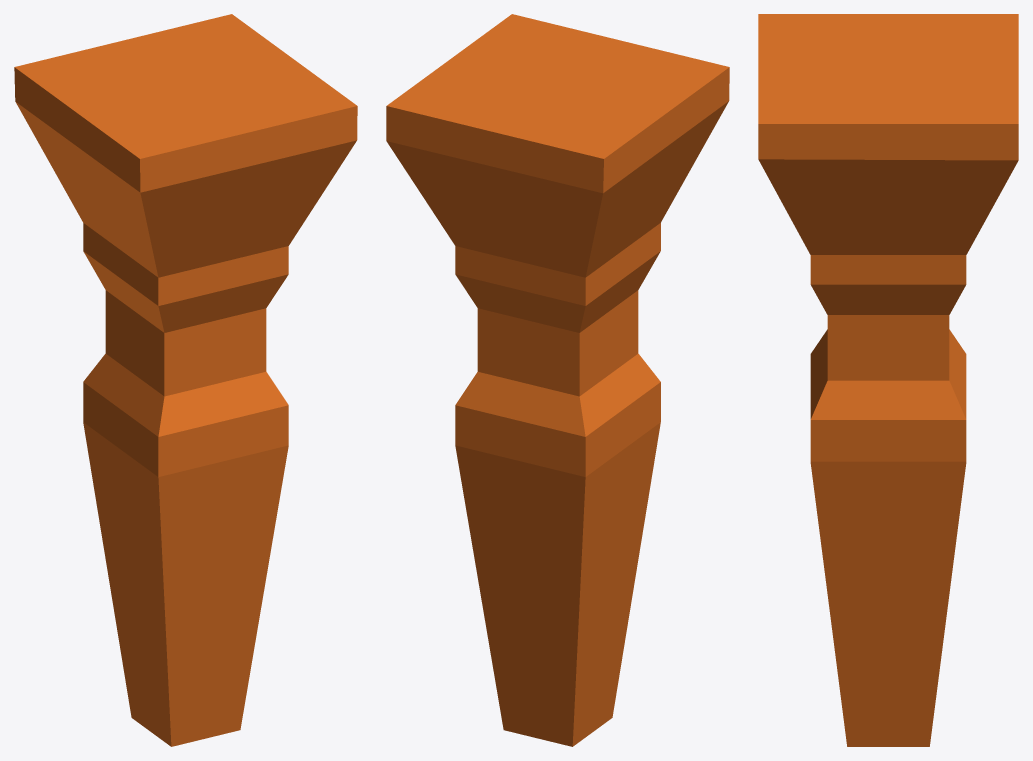
File: Railing Example.glb
3 renders of one model, left to right at view 1: azimuth 30°, elevation 25°; view 2: azimuth 150°, elevation 25°; view 3: azimuth 270°, elevation 25°, orthographic. The views are drawn at different scales.
Parts seen in each view (by area): view 1: Cube; view 2: Cube; view 3: Cube.
Boxes of the visible parts, <box> form: Cube: <box>14,14,357,746</box>; Cube: <box>386,14,729,746</box>; Cube: <box>758,14,1018,746</box>.
Bounding box in the file's own units: 2 × 5.6 × 2.
